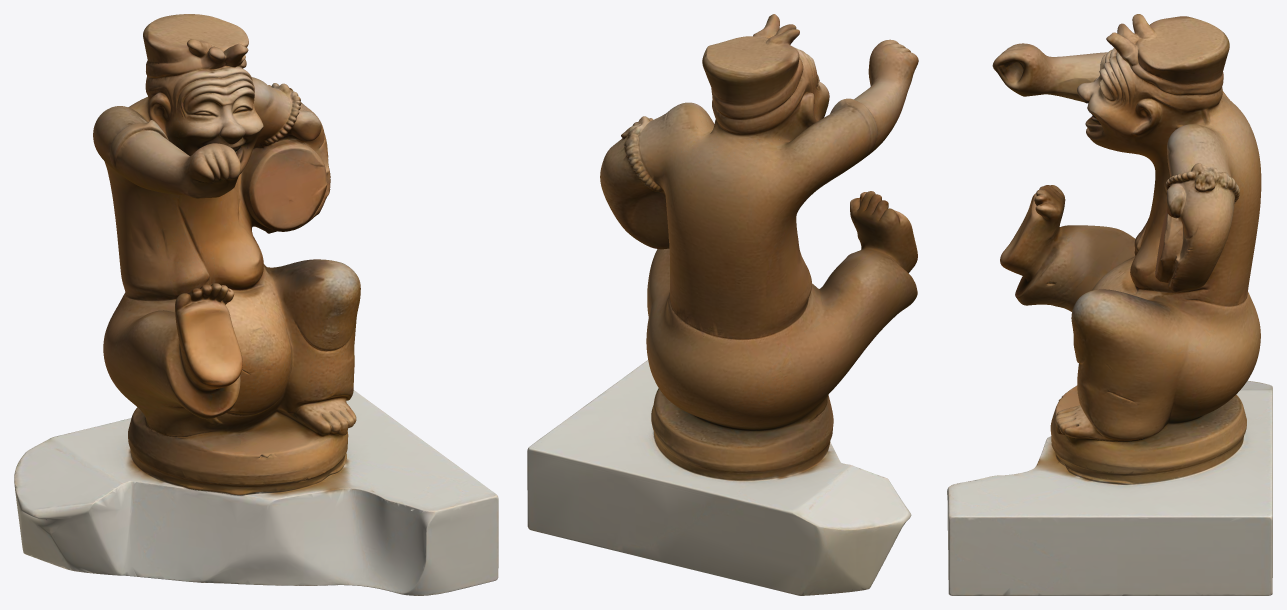
The model's file is jiagu-web.glb.
3 renders of one model, left to right at view 1: azimuth 30°, elevation 25°; view 2: azimuth 150°, elevation 25°; view 3: azimuth 270°, elevation 25°, orthographic. The views are drawn at different scales.
Parts seen in each view (by area): view 1: node_0; view 2: node_0; view 3: node_0.
Boxes of the visible parts, x1,y1,x2,y2 form: node_0: (14,14,498,595); node_0: (527,14,918,595); node_0: (947,14,1272,595).
Size of the model in its own units: 0.6233 by 0.8834 by 0.5359.
Materials: 1 (1 with a texture image).
